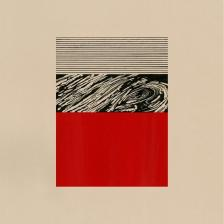red: (56, 112, 168, 188)
